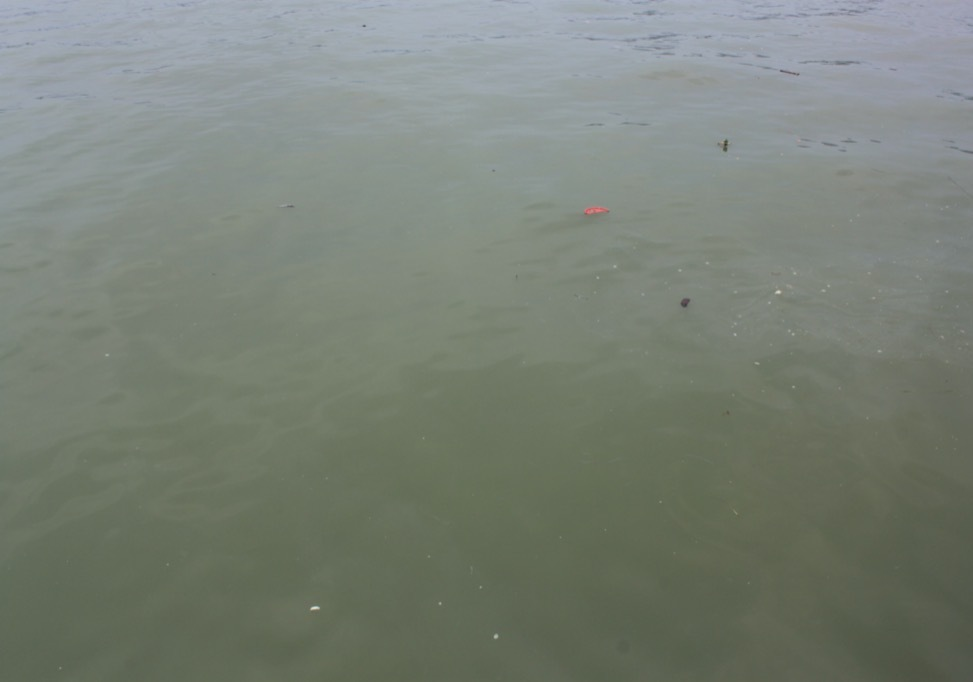organic: (762, 260, 788, 281), (713, 134, 737, 156), (715, 404, 740, 425)
plastic: (579, 198, 625, 227), (297, 592, 330, 624), (671, 287, 702, 318)
